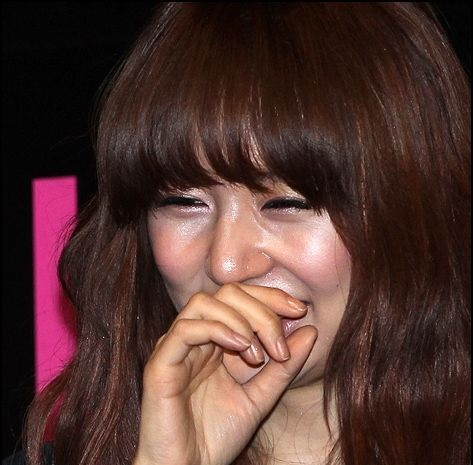face: (147, 101, 355, 387)
